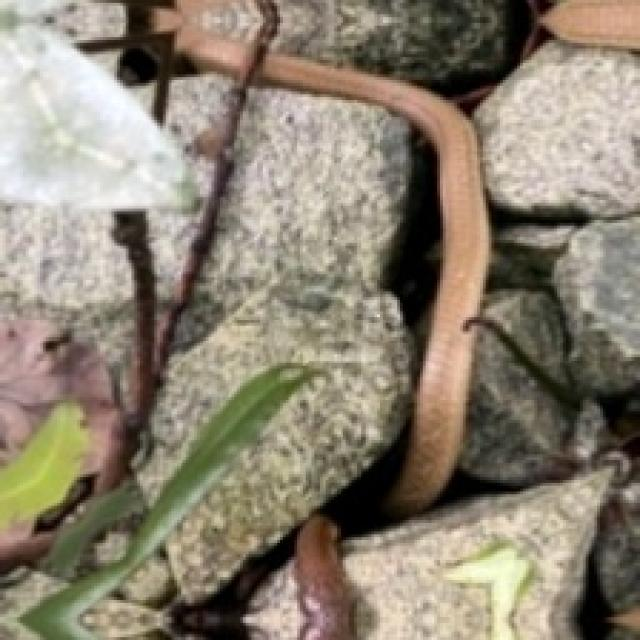king cobra: (254, 54, 486, 514)
